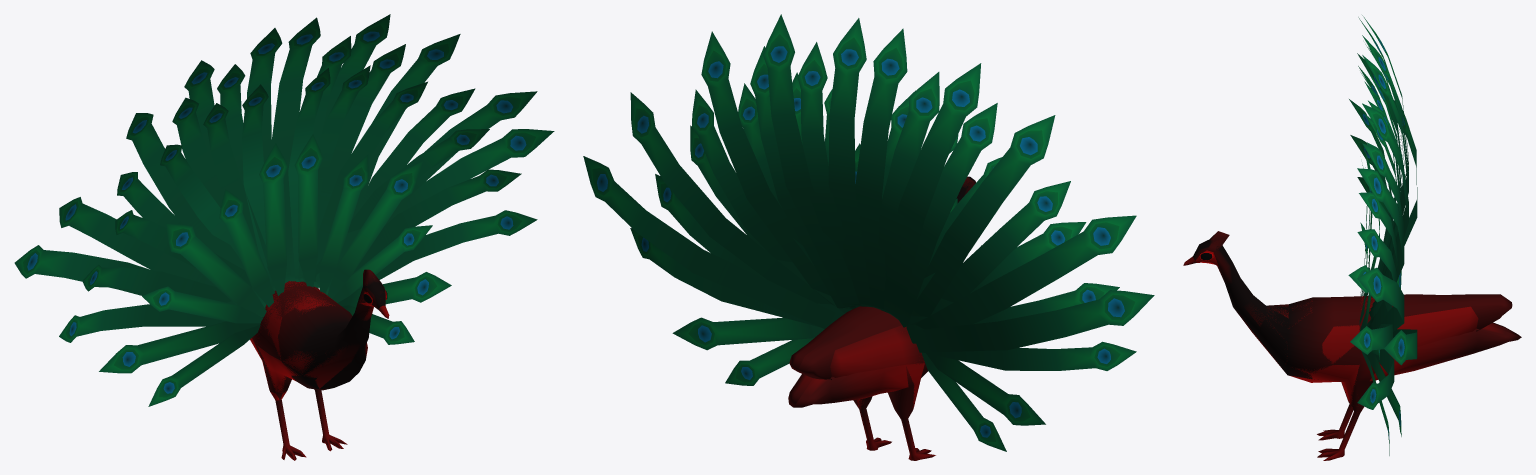
Rendered from BirdsUpright_Peacock.fbx.
The picture shows the model from 3 angles, left to right: view 1: azimuth 30°, elevation 25°; view 2: azimuth 150°, elevation 25°; view 3: azimuth 270°, elevation 25°; orthographic projection. The views are drawn at different scales.
Parts seen in each view (by area): view 1: DblSided, base (×2); view 2: DblSided, base (×2); view 3: base (×2), DblSided.
Boxes of the visible parts, left/top/right/bottom form: DblSided: left=14, top=14, right=554, bottom=406; base (×2): left=250, top=269, right=389, bottom=460; DblSided: left=583, top=14, right=1154, bottom=451; base (×2): left=788, top=176, right=975, bottom=460; base (×2): left=1183, top=231, right=1521, bottom=460; DblSided: left=1348, top=15, right=1417, bottom=455.
Bounding box in the file's own units: 239 × 175 × 134.
